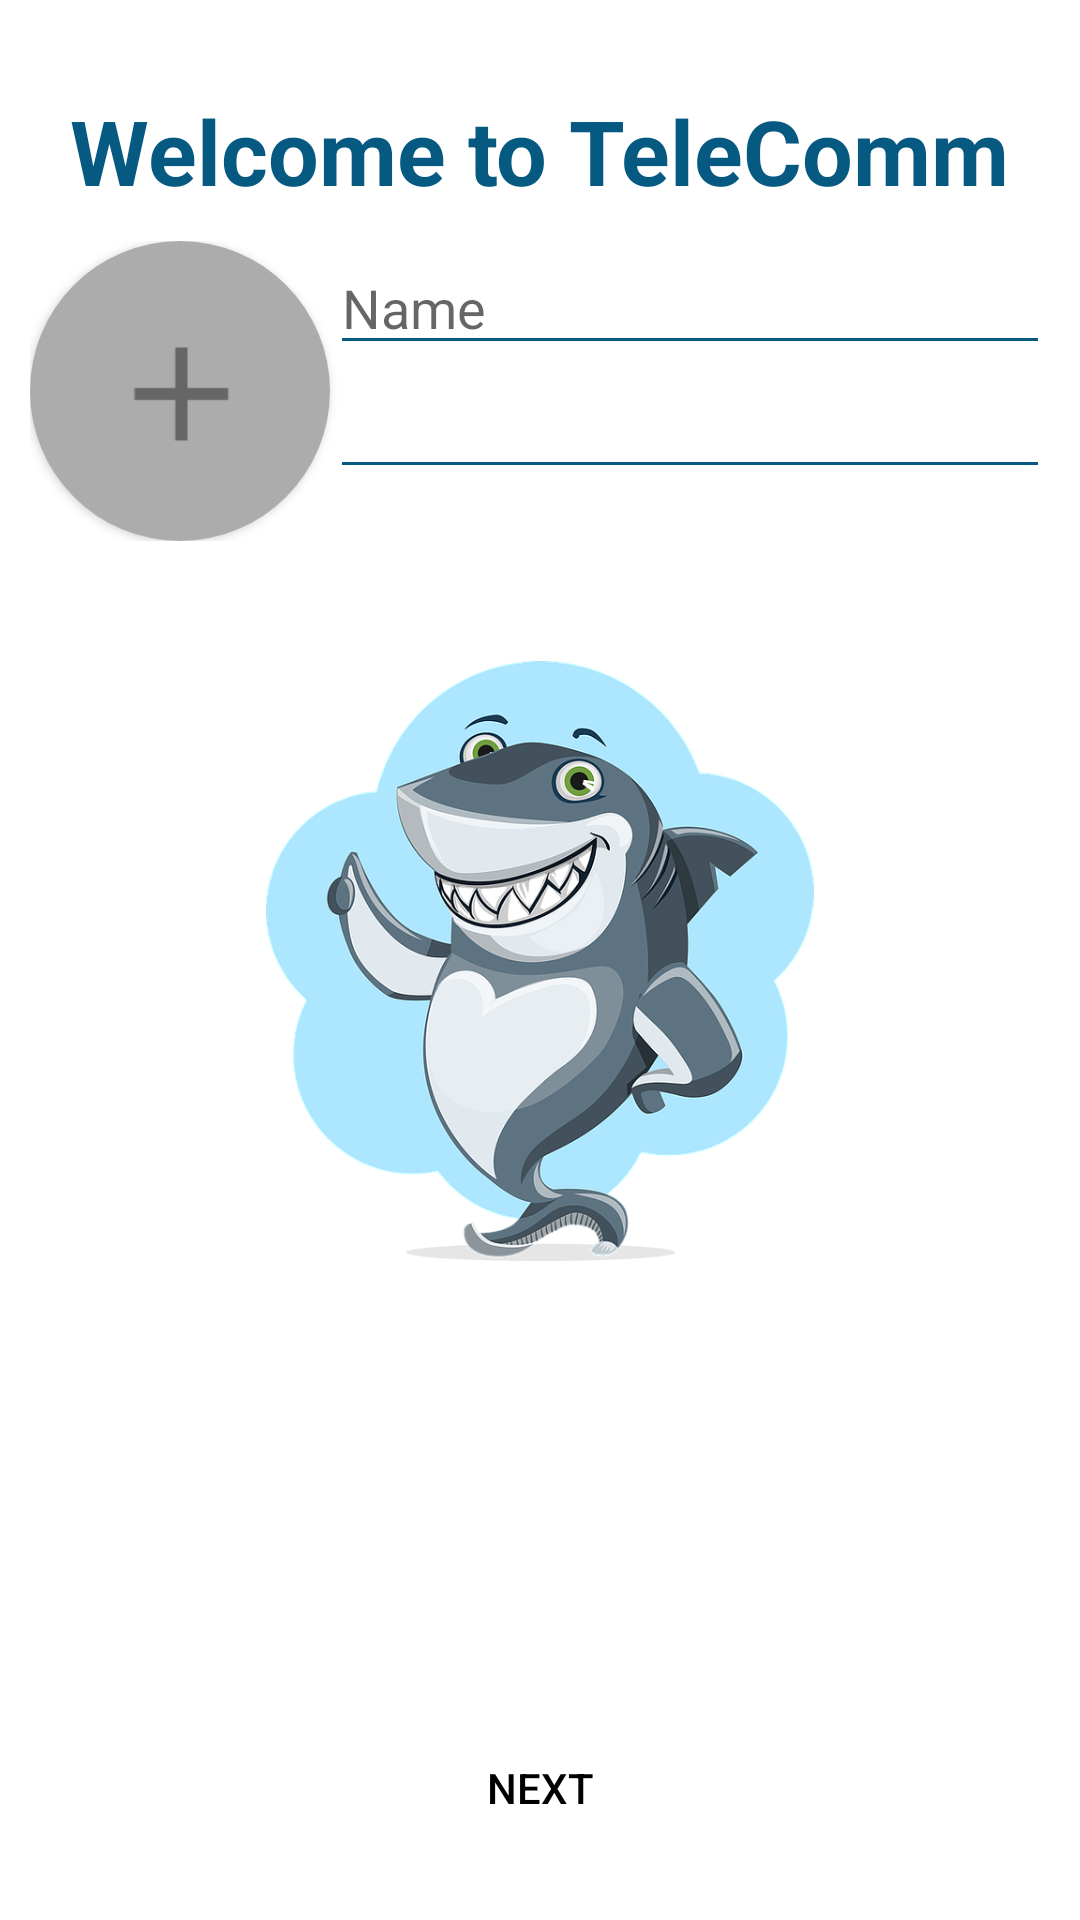

Where icons sit on this 1080x1920 app screen, as [x1=x1, y1=y1, x2=x2, y2=y2]:
emptyimage: [x1=30, y1=241, x2=330, y2=541]
